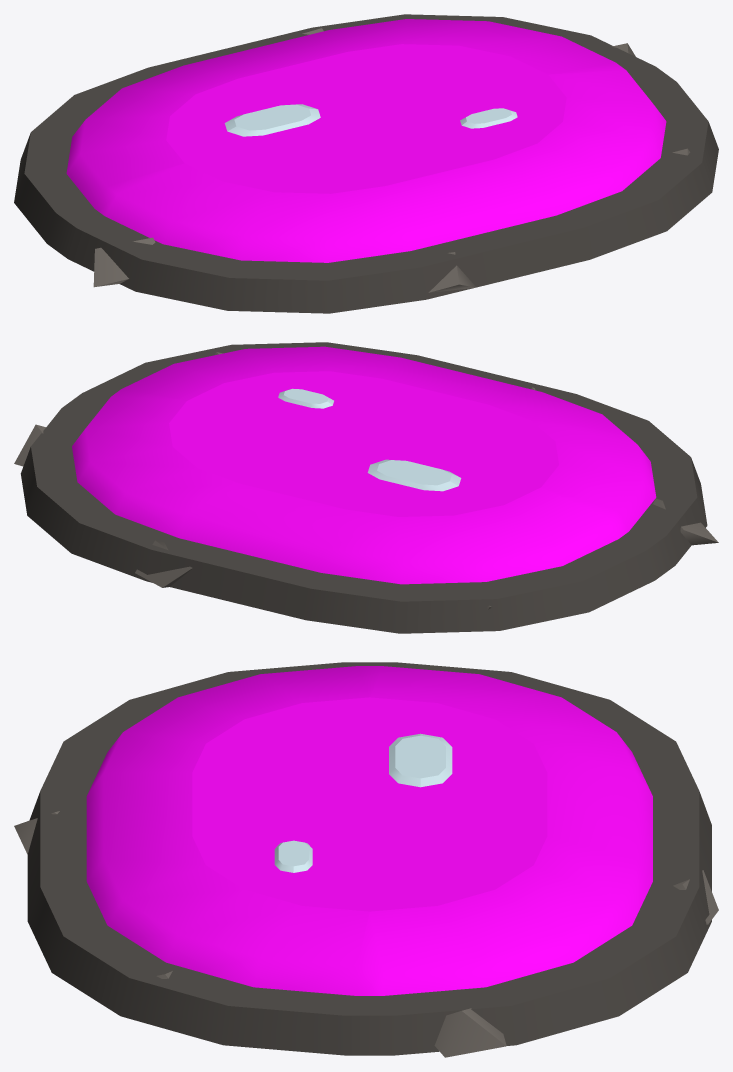
The model's file is objet_eau.glb.
3 views of the same model, one above another, from view 1: azimuth 30°, elevation 25°; view 2: azimuth 150°, elevation 25°; view 3: azimuth 270°, elevation 25° (orthographic). The views are drawn at different scales.
Parts seen in each view (by area): view 1: eau_teinte.002, eau_pierre_sombre.002, eau_verre_clair.002, eau_pierre.002; view 2: eau_teinte.002, eau_pierre_sombre.002, eau_verre_clair.002, eau_pierre.002; view 3: eau_teinte.002, eau_pierre_sombre.002, eau_verre_clair.002, eau_pierre.002.
Part boxes in pixels (x1,y1,x2,y2): eau_teinte.002: (66, 19, 666, 262); eau_pierre_sombre.002: (14, 14, 718, 313); eau_verre_clair.002: (224, 104, 517, 136); eau_pierre.002: (93, 28, 690, 292); eau_teinte.002: (72, 346, 656, 584); eau_pierre_sombre.002: (20, 342, 707, 633); eau_verre_clair.002: (278, 388, 461, 491); eau_pierre.002: (14, 352, 718, 609); eau_teinte.002: (86, 666, 652, 995); eau_pierre_sombre.002: (27, 662, 711, 1055); eau_verre_clair.002: (274, 733, 452, 872); eau_pierre.002: (14, 811, 718, 1057).
Bounding box in the file's own units: 0.3473 × 0.032 × 0.2782.
